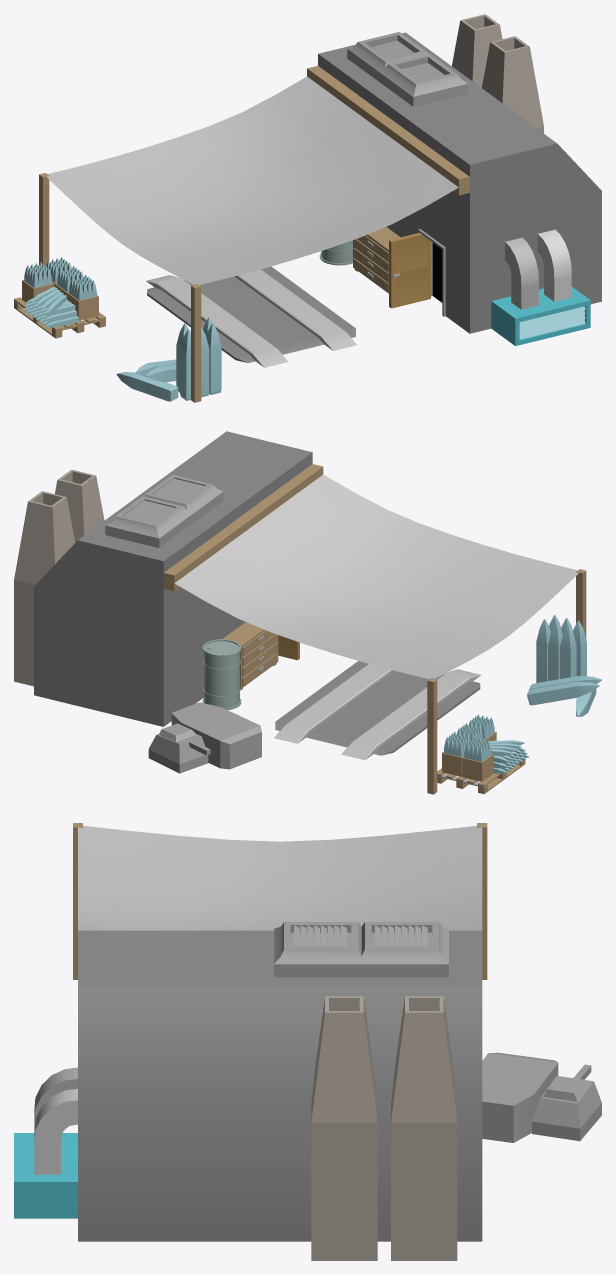
File: factory_02.fbx
3 renders of one model, top to bottom at view 1: azimuth 30°, elevation 25°; view 2: azimuth 150°, elevation 25°; view 3: azimuth 270°, elevation 25°, orthographic. The views are drawn at different scales.
Visible parts, largest first — view 1: cloth, main_part (×5), chimney_2, box (×2), rod, rail_1, rail_2, chimney_1, tube_1, tube_2, pillar_2, pillar_1 (+6 smaller); view 2: main_part (×4), cloth, chimney_1, body_3, rod, rail_1, rail_2, barrel1, chimney_2, pCube5, pillar_1, big_shell_10 (+6 smaller); view 3: main_part (×2), cloth, chimney_2, chimney_1, body_3, box, pCube5, tube_1, tube_2, pillar_1, pCube7, pillar_2.
Part boxes in pixels (bbox=[...]): cloth: bbox=[46, 76, 458, 284]; main_part (×5): bbox=[147, 31, 601, 362]; chimney_2: bbox=[482, 36, 543, 133]; box (×2): bbox=[67, 287, 590, 345]; rod: bbox=[307, 66, 469, 195]; rail_1: bbox=[146, 275, 288, 367]; rail_2: bbox=[235, 269, 356, 350]; chimney_1: bbox=[452, 14, 502, 87]; tube_1: bbox=[537, 229, 571, 301]; tube_2: bbox=[505, 237, 538, 309]; pillar_2: bbox=[191, 284, 201, 402]; pillar_1: bbox=[39, 173, 49, 266]; main_part (×4): bbox=[34, 431, 480, 755]; cloth: bbox=[174, 474, 578, 678]; chimney_1: bbox=[14, 491, 75, 686]; body_3: bbox=[171, 702, 261, 769]; rod: bbox=[163, 464, 323, 591]; rail_1: bbox=[341, 669, 481, 760]; rail_2: bbox=[274, 664, 393, 743]; barrel1: bbox=[202, 639, 241, 709]; chimney_2: bbox=[55, 469, 104, 542]; pCube5: bbox=[148, 734, 208, 773]; pillar_1: bbox=[427, 678, 437, 794]; big_shell_10: bbox=[527, 681, 599, 705]; main_part (×2): bbox=[78, 922, 482, 1241]; cloth: bbox=[78, 825, 482, 930]; chimney_2: bbox=[311, 996, 377, 1260]; chimney_1: bbox=[391, 996, 457, 1260]; body_3: bbox=[482, 1052, 558, 1142]; box: bbox=[14, 1133, 77, 1218]; pCube5: bbox=[532, 1075, 601, 1141]; tube_1: bbox=[34, 1088, 77, 1174]; tube_2: bbox=[34, 1067, 77, 1128]; pillar_1: bbox=[477, 823, 487, 979]; pCube7: bbox=[543, 1076, 589, 1101]; pillar_2: bbox=[73, 823, 82, 979].
Size of the model in its own units: 22.12 by 8.16 by 17.46.
